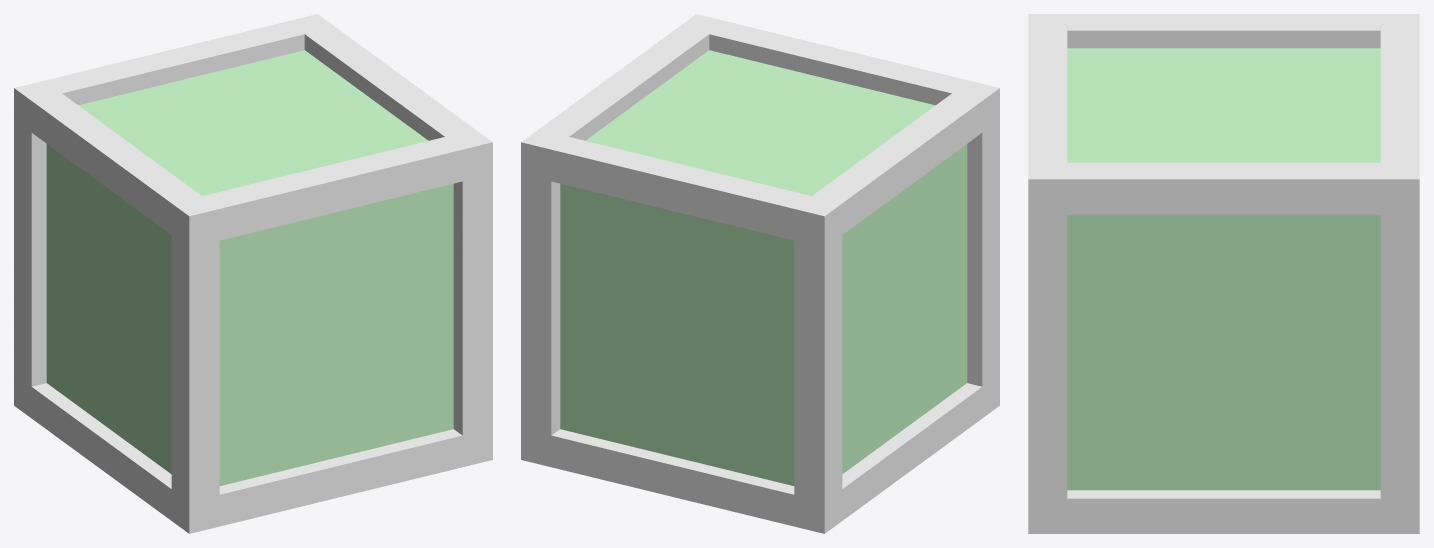
File: GlassBox.fbx
3 views of the same model, side by side, from view 1: azimuth 30°, elevation 25°; view 2: azimuth 150°, elevation 25°; view 3: azimuth 270°, elevation 25° (orthographic). The views are drawn at different scales.
Visible parts, largest first — view 1: GlassBox; view 2: GlassBox; view 3: GlassBox.
Boxes of the visible parts, x1,y1,x2,y2 form: GlassBox: (14,14,492,533); GlassBox: (521,14,999,533); GlassBox: (1028,14,1419,533).
Size of the model in its own units: 1 by 1 by 1.
